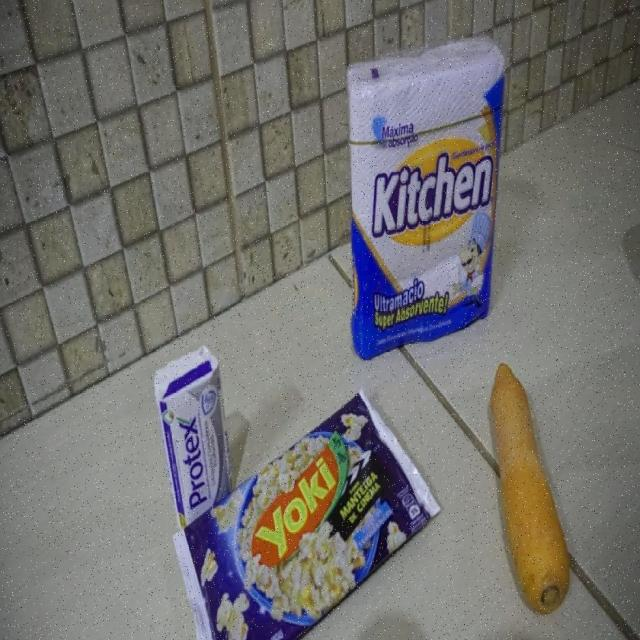Carrot: (489, 359, 572, 616)
Napkin: (346, 30, 506, 363)
Popcorn: (171, 386, 442, 640)
Soap: (152, 345, 235, 530)
